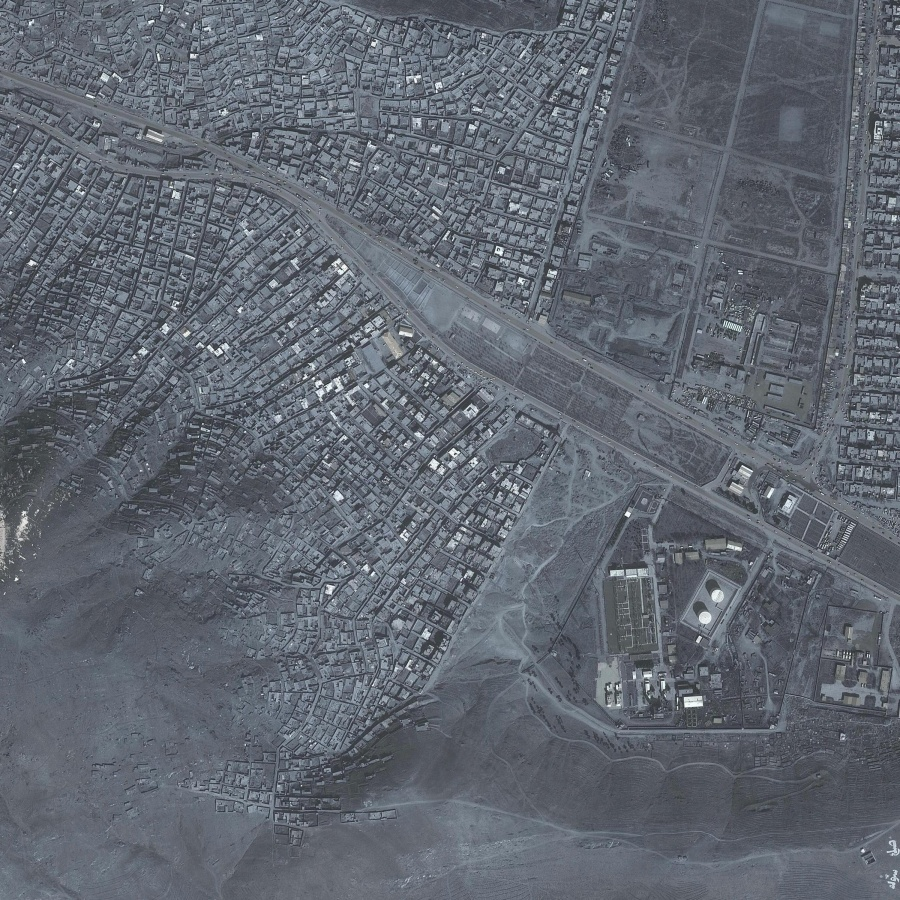PowerPlant: (605, 531, 748, 722)
